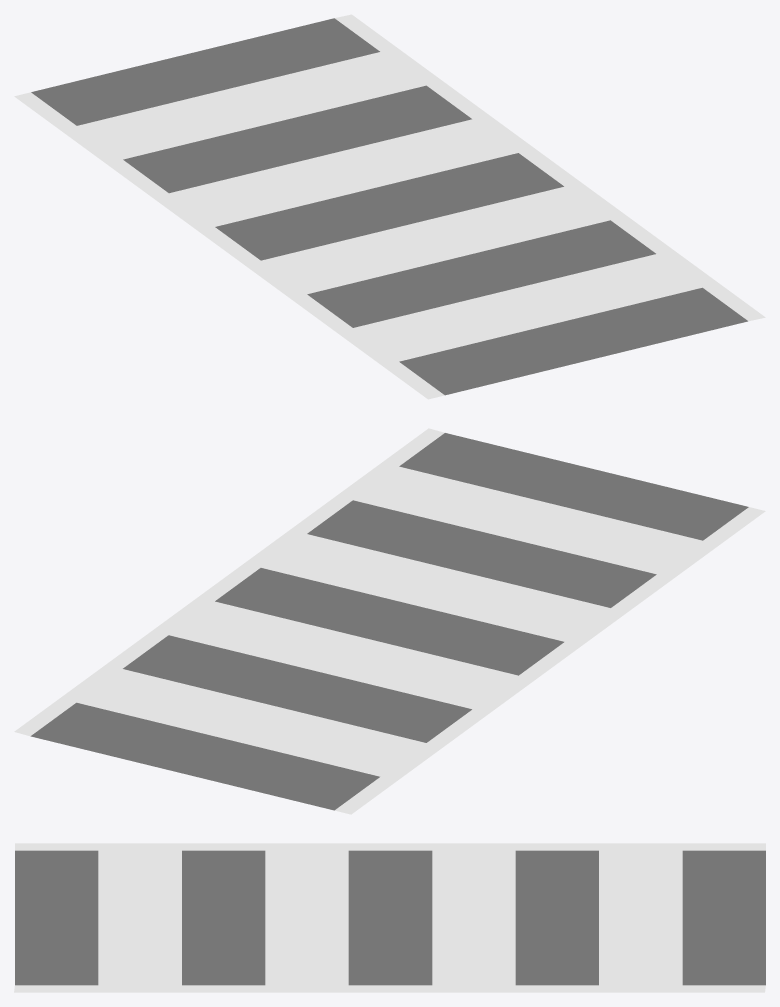
The model's file is SM_Road_P4.fbx.
The picture shows the model from 3 angles, top to bottom: view 1: azimuth 30°, elevation 25°; view 2: azimuth 150°, elevation 25°; view 3: azimuth 270°, elevation 25°; orthographic projection. The views are drawn at different scales.
Visible parts, largest first — view 1: SM_Road_P4; view 2: SM_Road_P4; view 3: SM_Road_P4.
Part boxes in pixels (<box>): SM_Road_P4: <box>14,14,765,399</box>; SM_Road_P4: <box>14,428,765,814</box>; SM_Road_P4: <box>14,843,765,992</box>.
Bounding box in the file's own units: 574 × 3.4e-05 × 1222.
